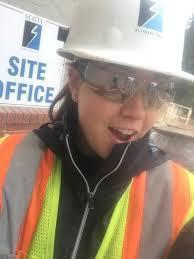helmet: (56, 1, 193, 82)
